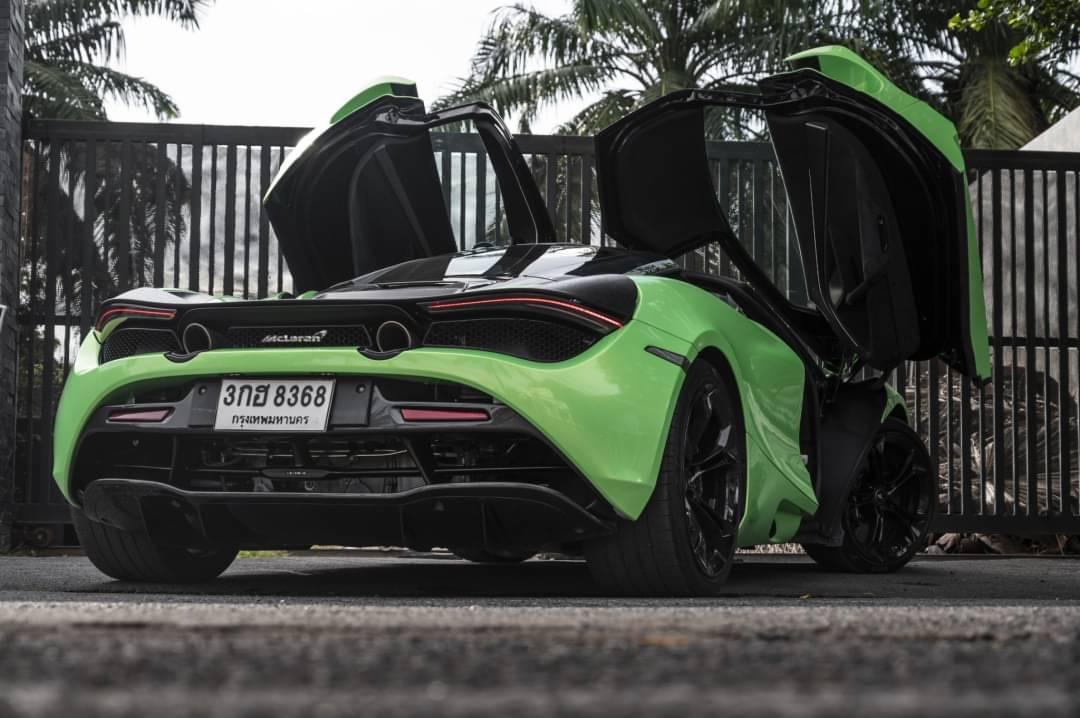license-plate: (207, 370, 338, 434)
